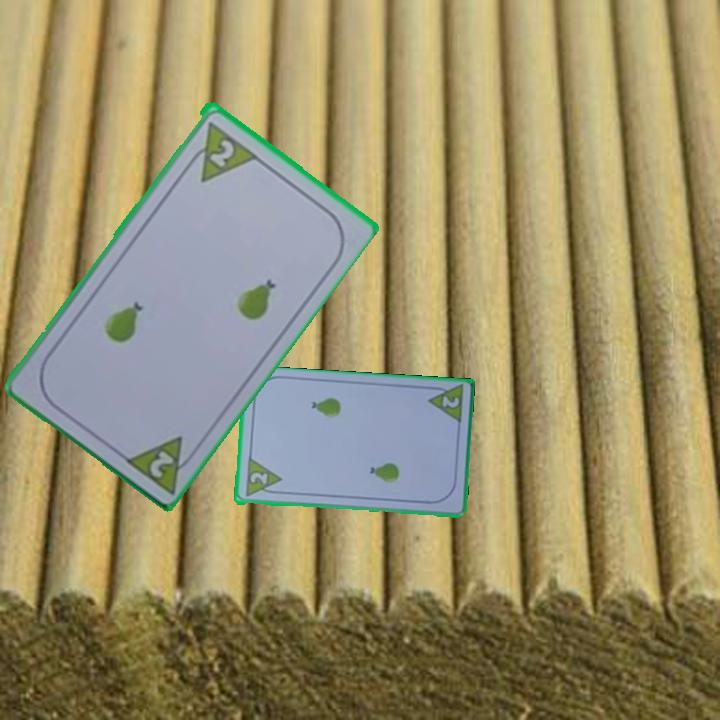2p: (181, 116, 258, 185), (423, 383, 466, 427), (242, 456, 284, 500), (145, 446, 177, 481)
